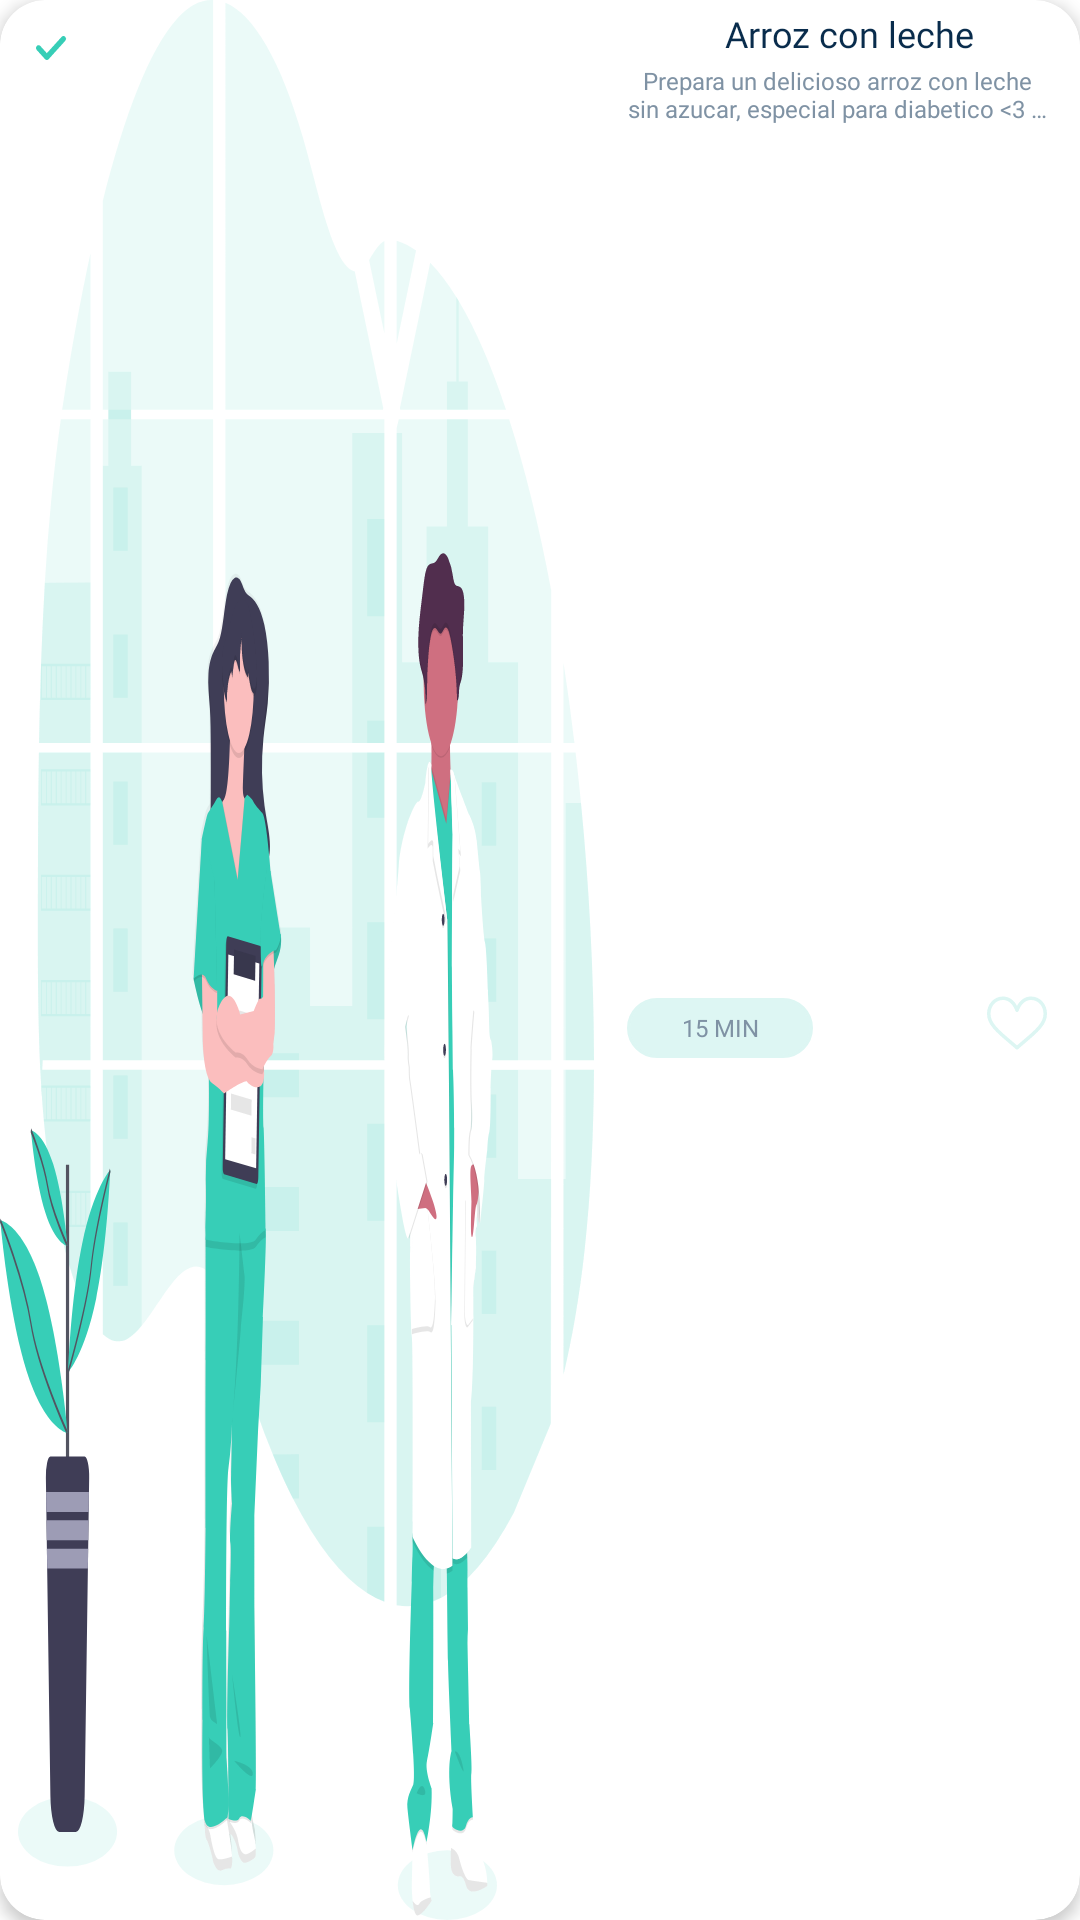

Named icons in this screenshot (1080 x 1920) and their centers, (x=x, y=y):
like: (x=1017, y=1023)
